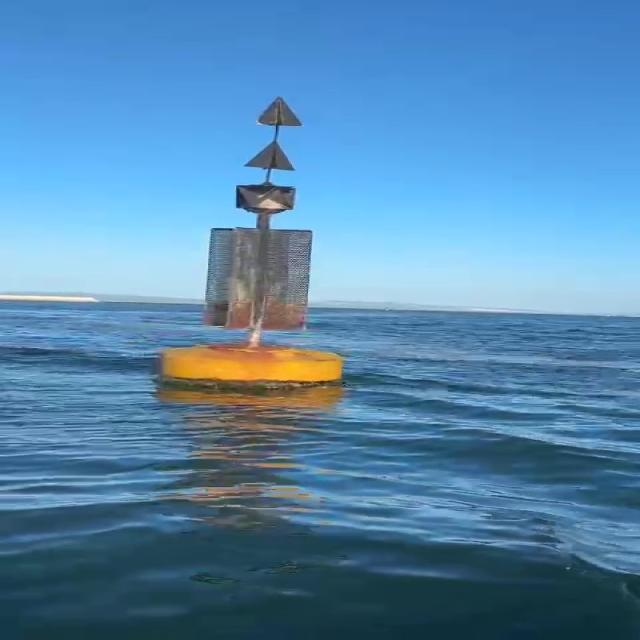marque: (162, 96, 353, 397)
